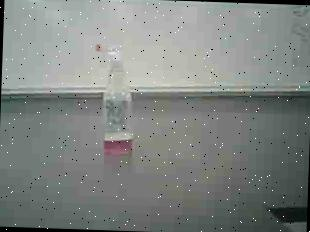hazard: (88, 42, 142, 159)
